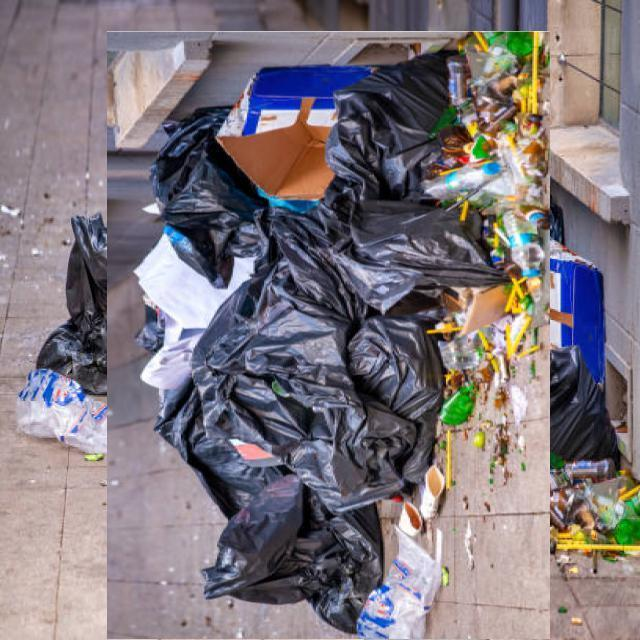Trashbag: (195, 270, 354, 470), (199, 476, 386, 630), (254, 196, 513, 297), (312, 46, 462, 193), (146, 100, 272, 249), (31, 214, 121, 399), (350, 315, 444, 413), (336, 397, 438, 480)
